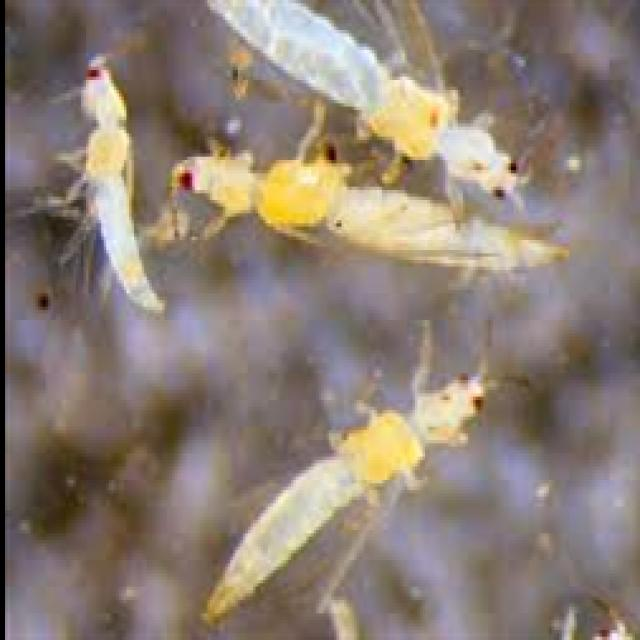Thrip-Adult-: (183, 312, 534, 625), (163, 137, 589, 294)
